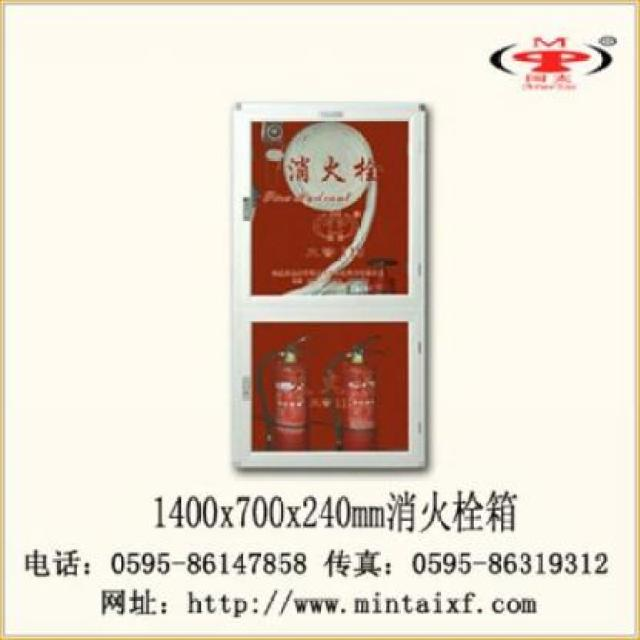firehydrant: (225, 93, 434, 474)
